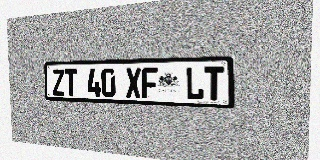0: (101, 68, 115, 97)
4: (87, 68, 101, 97)
F: (141, 67, 157, 98)
L: (185, 66, 204, 100)
T: (204, 66, 224, 100), (64, 69, 77, 96)
X: (125, 67, 141, 98)
Z: (52, 69, 65, 96)
